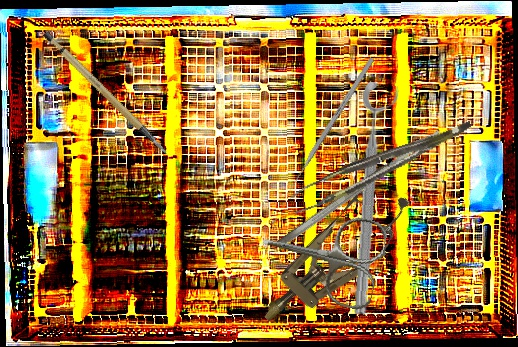Fixation Ring: (347, 80, 402, 317)
Iris Scissors: (252, 196, 390, 313)
Pusher: (286, 56, 375, 194)
Scalpel Handle: (40, 17, 169, 172)
Spatula Surgical: (274, 127, 443, 250)
Speculum: (240, 164, 425, 346)
Tissue Forceps: (285, 121, 480, 214)
